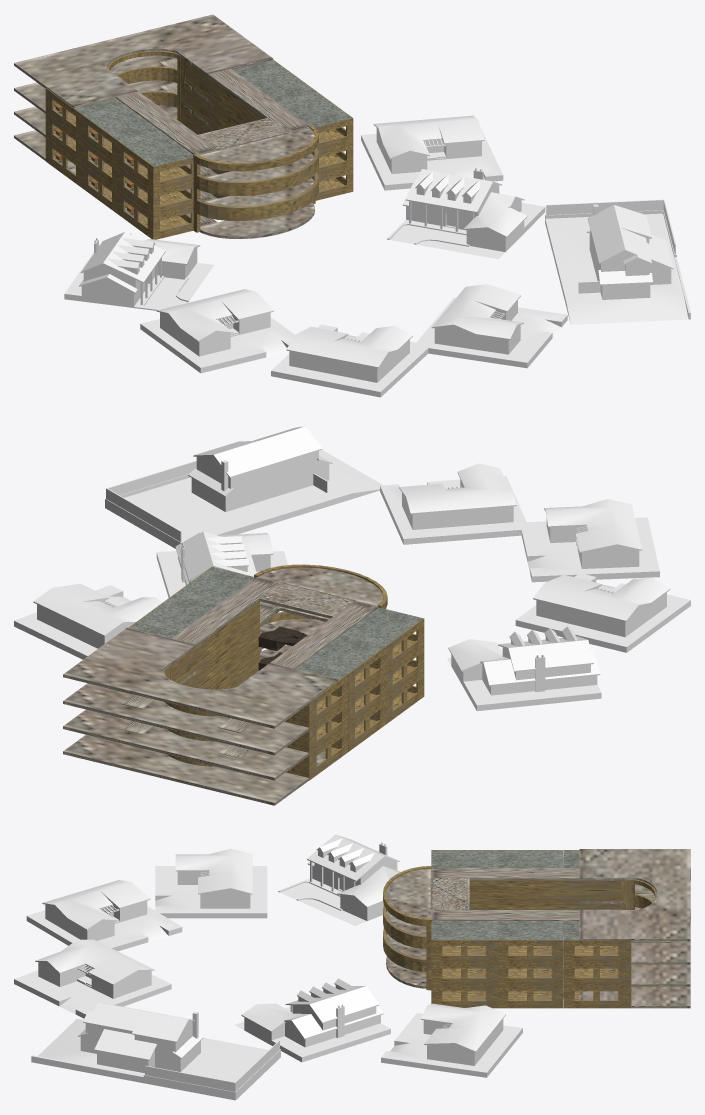
Rendered from school.glb.
3 views of the same model, one above another, from view 1: azimuth 30°, elevation 25°; view 2: azimuth 150°, elevation 25°; view 3: azimuth 270°, elevation 25° (orthographic). The views are drawn at different scales.
Parts seen in each view (by area): view 1: Roof.015, ISL_House_03_geo_V1_SHD_House_03_0.001, ISL_House_02_geo_V1_SHD_House_02_0.001, ISL_House_01_geo_V4_SHD_House_01_0.001, ISL_House_02_geo_V2_SHD_House_02_0.001, ISL_House_01_geo_V1_SHD_House_01_0.001, ISL_House_01_geo_V3_SHD_House_01_0.001, ISL_House_01_geo_V2_SHD_House_01_0.001, Zone-Merged; view 2: Roof.015, ISL_House_03_geo_V1_SHD_House_03_0.001, ISL_House_02_geo_V2_SHD_House_02_0.001, ISL_House_01_geo_V3_SHD_House_01_0.001, ISL_House_01_geo_V4_SHD_House_01_0.001, ISL_House_01_geo_V1_SHD_House_01_0.001, ISL_House_01_geo_V2_SHD_House_01_0.001, ISL_House_02_geo_V1_SHD_House_02_0.001, Stairs.005, Zone-Merged; view 3: Roof.015, ISL_House_03_geo_V1_SHD_House_03_0.001, ISL_House_02_geo_V1_SHD_House_02_0.001, ISL_House_01_geo_V2_SHD_House_01_0.001, ISL_House_01_geo_V4_SHD_House_01_0.001, ISL_House_01_geo_V1_SHD_House_01_0.001, ISL_House_01_geo_V3_SHD_House_01_0.001, ISL_House_02_geo_V2_SHD_House_02_0.001, Zone-Merged.
Part boxes in pixels (bbox=[...]): Roof.015: bbox=[14, 14, 353, 239]; ISL_House_03_geo_V1_SHD_House_03_0.001: bbox=[545, 199, 690, 324]; ISL_House_02_geo_V1_SHD_House_02_0.001: bbox=[387, 168, 545, 259]; ISL_House_01_geo_V4_SHD_House_01_0.001: bbox=[140, 289, 295, 373]; ISL_House_02_geo_V2_SHD_House_02_0.001: bbox=[64, 232, 214, 310]; ISL_House_01_geo_V1_SHD_House_01_0.001: bbox=[414, 284, 567, 368]; ISL_House_01_geo_V3_SHD_House_01_0.001: bbox=[271, 324, 428, 397]; ISL_House_01_geo_V2_SHD_House_01_0.001: bbox=[361, 115, 503, 190]; Zone-Merged: bbox=[107, 50, 185, 125]; Roof.015: bbox=[63, 564, 424, 805]; ISL_House_03_geo_V1_SHD_House_03_0.001: bbox=[105, 426, 382, 548]; ISL_House_02_geo_V2_SHD_House_02_0.001: bbox=[447, 626, 601, 711]; ISL_House_01_geo_V3_SHD_House_01_0.001: bbox=[521, 499, 659, 582]; ISL_House_01_geo_V4_SHD_House_01_0.001: bbox=[515, 573, 690, 652]; ISL_House_01_geo_V1_SHD_House_01_0.001: bbox=[380, 463, 529, 544]; ISL_House_01_geo_V2_SHD_House_01_0.001: bbox=[14, 583, 161, 659]; ISL_House_02_geo_V1_SHD_House_02_0.001: bbox=[156, 531, 287, 597]; Stairs.005: bbox=[258, 626, 307, 670]; Zone-Merged: bbox=[162, 665, 221, 766]; Roof.015: bbox=[383, 849, 690, 1008]; ISL_House_03_geo_V1_SHD_House_03_0.001: bbox=[31, 1002, 280, 1100]; ISL_House_02_geo_V1_SHD_House_02_0.001: bbox=[235, 978, 390, 1062]; ISL_House_01_geo_V2_SHD_House_01_0.001: bbox=[381, 1003, 522, 1077]; ISL_House_01_geo_V4_SHD_House_01_0.001: bbox=[155, 848, 267, 918]; ISL_House_01_geo_V1_SHD_House_01_0.001: bbox=[14, 939, 171, 1018]; ISL_House_01_geo_V3_SHD_House_01_0.001: bbox=[26, 880, 182, 951]; ISL_House_02_geo_V2_SHD_House_02_0.001: bbox=[278, 834, 400, 925]; Zone-Merged: bbox=[621, 880, 657, 909].
Size of what is drawn, in the model's own units: 173 by 24.42 by 206.
Materials: 48 (41 with a texture image).
